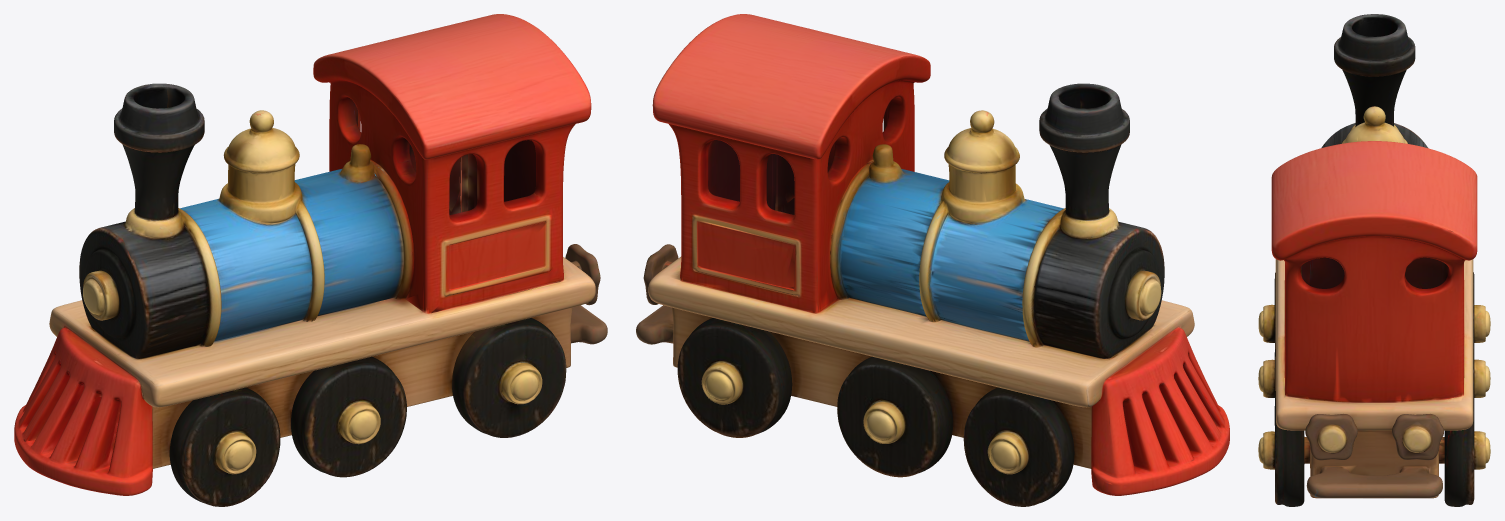
Rendered from train.glb.
3 renders of one model, left to right at view 1: azimuth 30°, elevation 25°; view 2: azimuth 150°, elevation 25°; view 3: azimuth 270°, elevation 25°, orthographic. The views are drawn at different scales.
Visible parts, largest first — view 1: node_0; view 2: node_0; view 3: node_0.
Part boxes in pixels (box(x1,y1,x2,y2)): node_0: box(14, 14, 607, 506); node_0: box(636, 14, 1229, 506); node_0: box(1258, 14, 1490, 506).
Bounding box in the file's own units: 1.06 × 0.6979 × 0.4301.
1 material, 1 textured.
